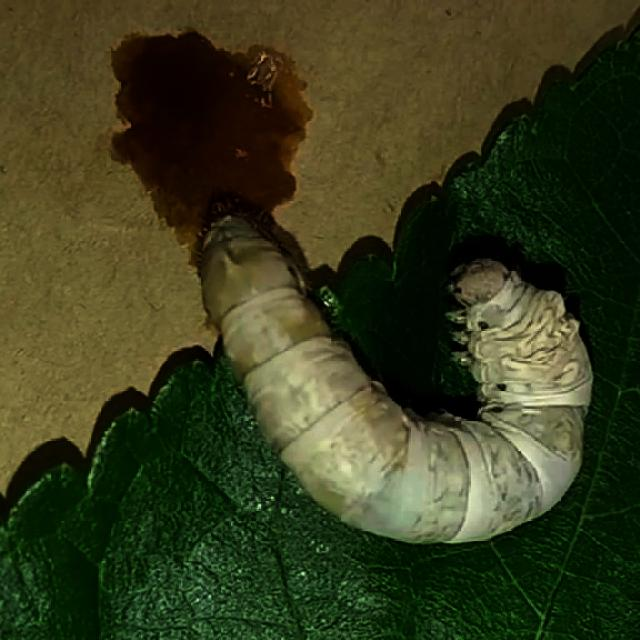Grasserie: (155, 152, 602, 621)
